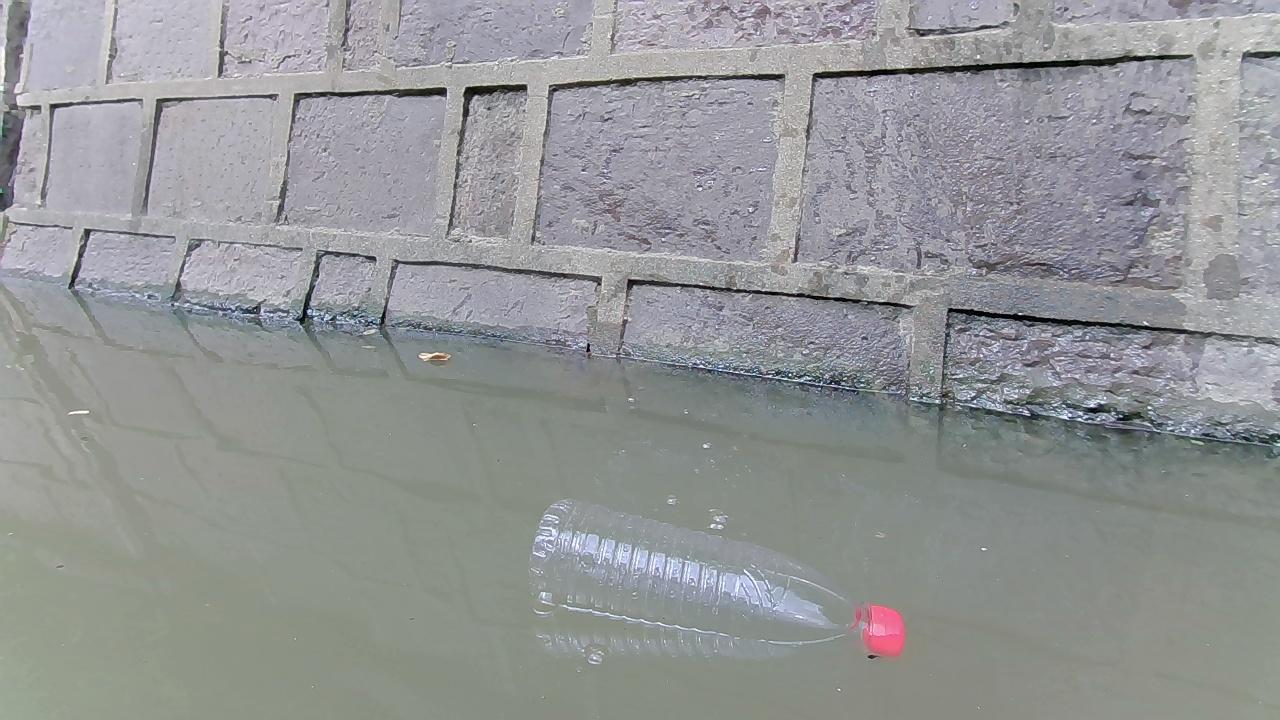bottle: (529, 485, 906, 659)
